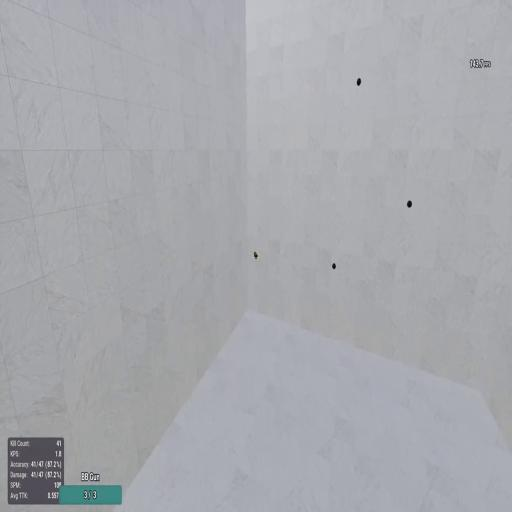Crosshair: (254, 252, 258, 262)
Target: (406, 198, 413, 208), (356, 77, 362, 88), (332, 262, 336, 270), (254, 251, 256, 256)
